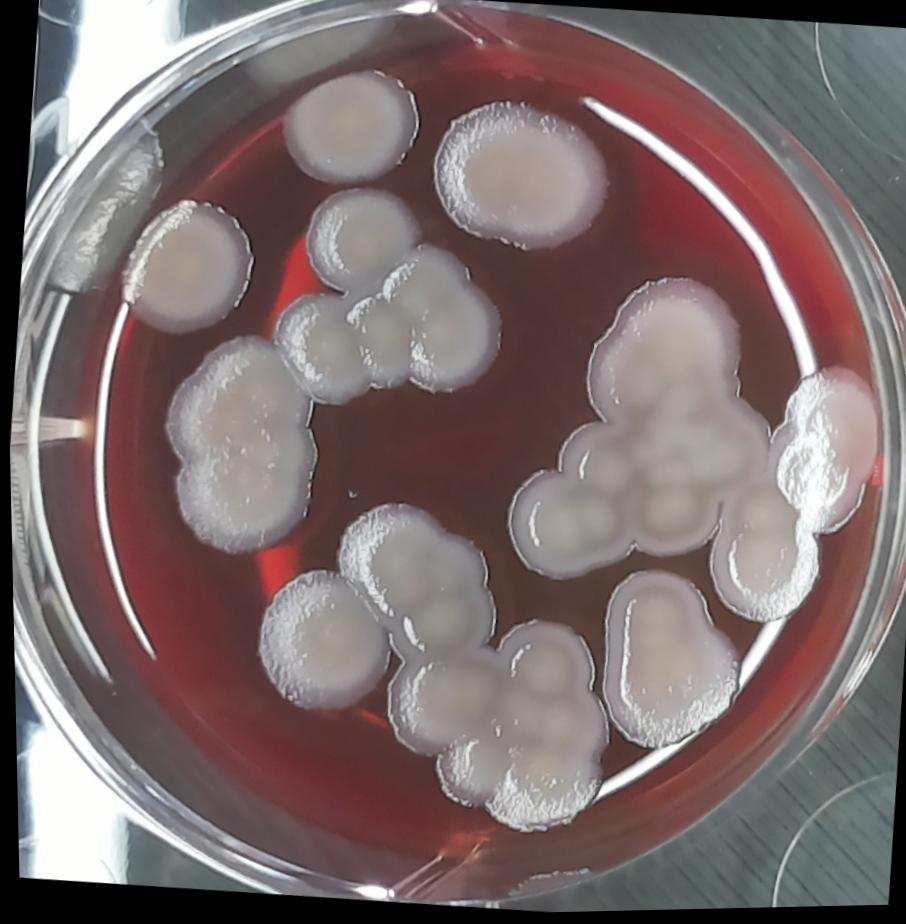bcereus: (135, 316, 342, 572), (408, 83, 622, 272), (581, 553, 755, 764), (106, 187, 268, 349), (270, 48, 437, 203), (756, 362, 885, 540), (690, 473, 836, 630)
